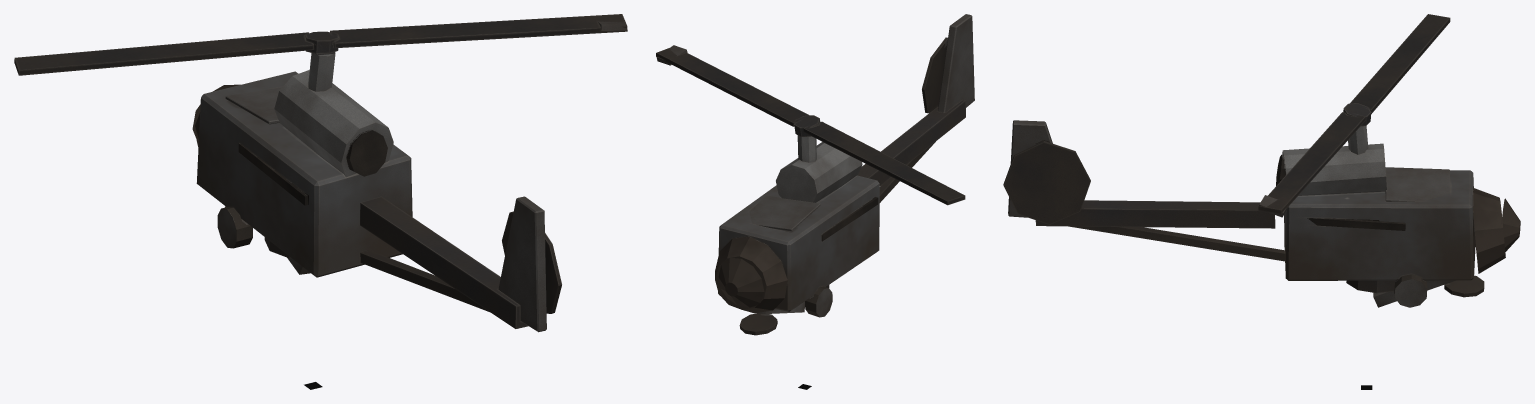
File: chs_vulture_wreck.fbx
3 renders of one model, left to right at view 1: azimuth 30°, elevation 25°; view 2: azimuth 150°, elevation 25°; view 3: azimuth 270°, elevation 25°, orthographic. The views are drawn at different scales.
Parts seen in each view (by area): view 1: base_bar, rotor_bar, tailRotor_bar; view 2: base_bar, rotor_bar, tailRotor_bar, nano_bar; view 3: base_bar, rotor_bar, tailRotor_bar, nano_bar.
Part boxes in pixels (bbox=[...]): base_bar: bbox=[192, 52, 546, 332]; rotor_bar: bbox=[14, 14, 627, 75]; tailRotor_bar: bbox=[502, 211, 561, 313]; base_bar: bbox=[715, 14, 974, 317]; rotor_bar: bbox=[656, 45, 965, 205]; tailRotor_bar: bbox=[922, 37, 947, 113]; nano_bar: bbox=[739, 285, 829, 335]; base_bar: bbox=[1008, 120, 1520, 307]; rotor_bar: bbox=[1258, 14, 1450, 217]; tailRotor_bar: bbox=[1003, 141, 1090, 224]; nano_bar: bbox=[1346, 275, 1484, 307].
Bounding box in the file's own units: 831 × 554 × 925.
2 materials, 2 textured.
